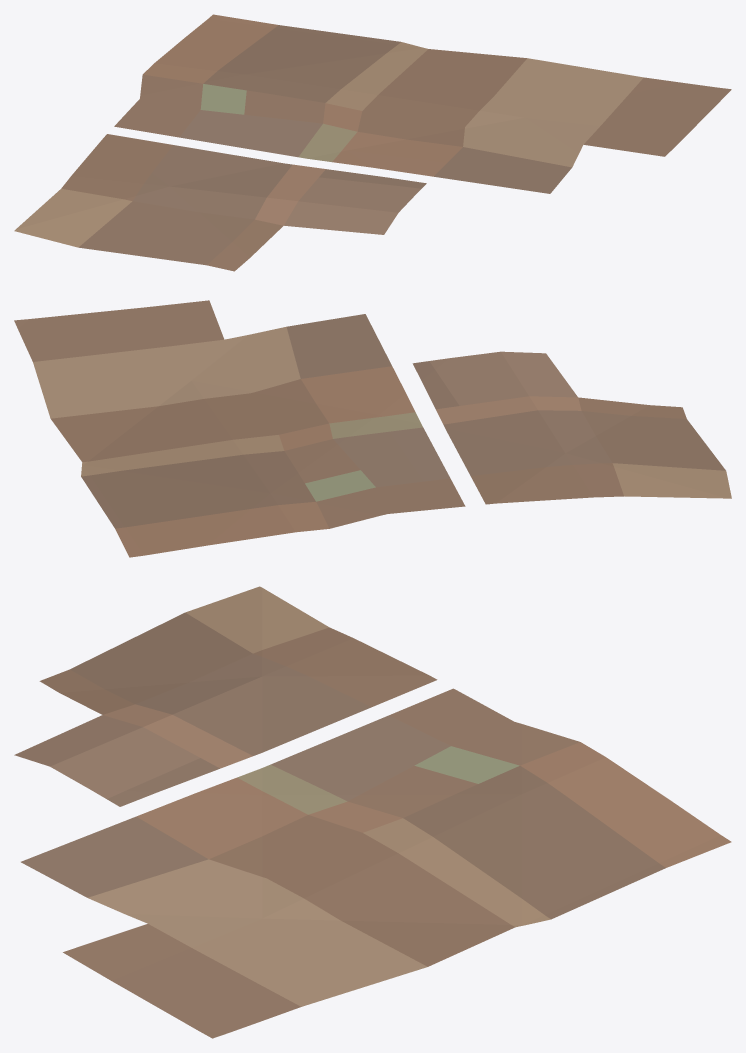
File: farm_-5_15_soil.glb
The picture shows the model from 3 angles, top to bottom: view 1: azimuth 30°, elevation 25°; view 2: azimuth 150°, elevation 25°; view 3: azimuth 270°, elevation 25°; orthographic projection. The views are drawn at different scales.
Parts seen in each view (by area): view 1: geometry_0; view 2: geometry_0; view 3: geometry_0.
Boxes of the visible parts, x1=… form: geometry_0: x1=14, y1=14, x2=731, y2=271; geometry_0: x1=14, y1=300, x2=731, y2=557; geometry_0: x1=14, y1=586, x2=731, y2=1038.
Bounding box in the file's own units: 315 × 10.21 × 221.
